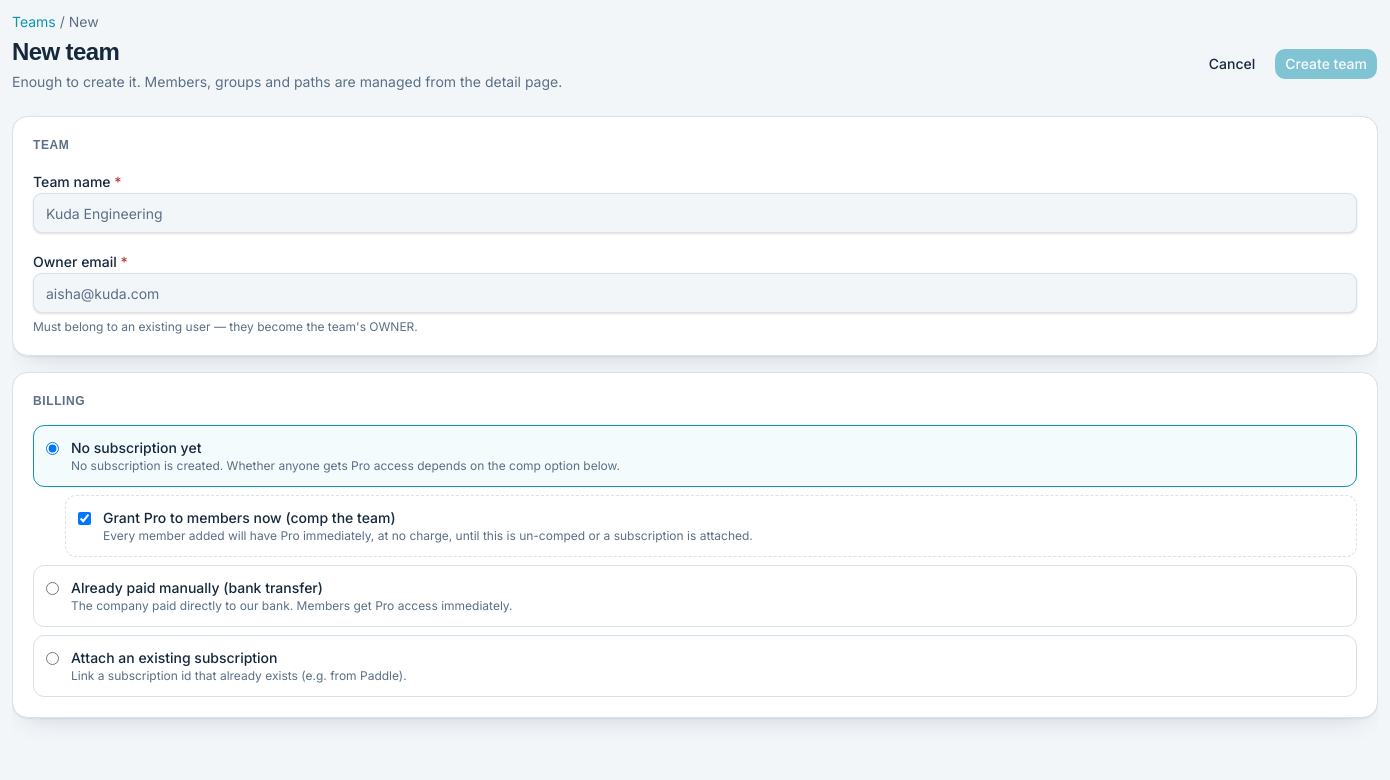
it: NewTeamClient › comp checkbox on the "no subscription yet" branch › is absent on the "attach an existing subscription" branch
Step 1. Click the radio button labelled "Attach an existing subscription" → x=52, y=658, box 46,652 -> 59,665
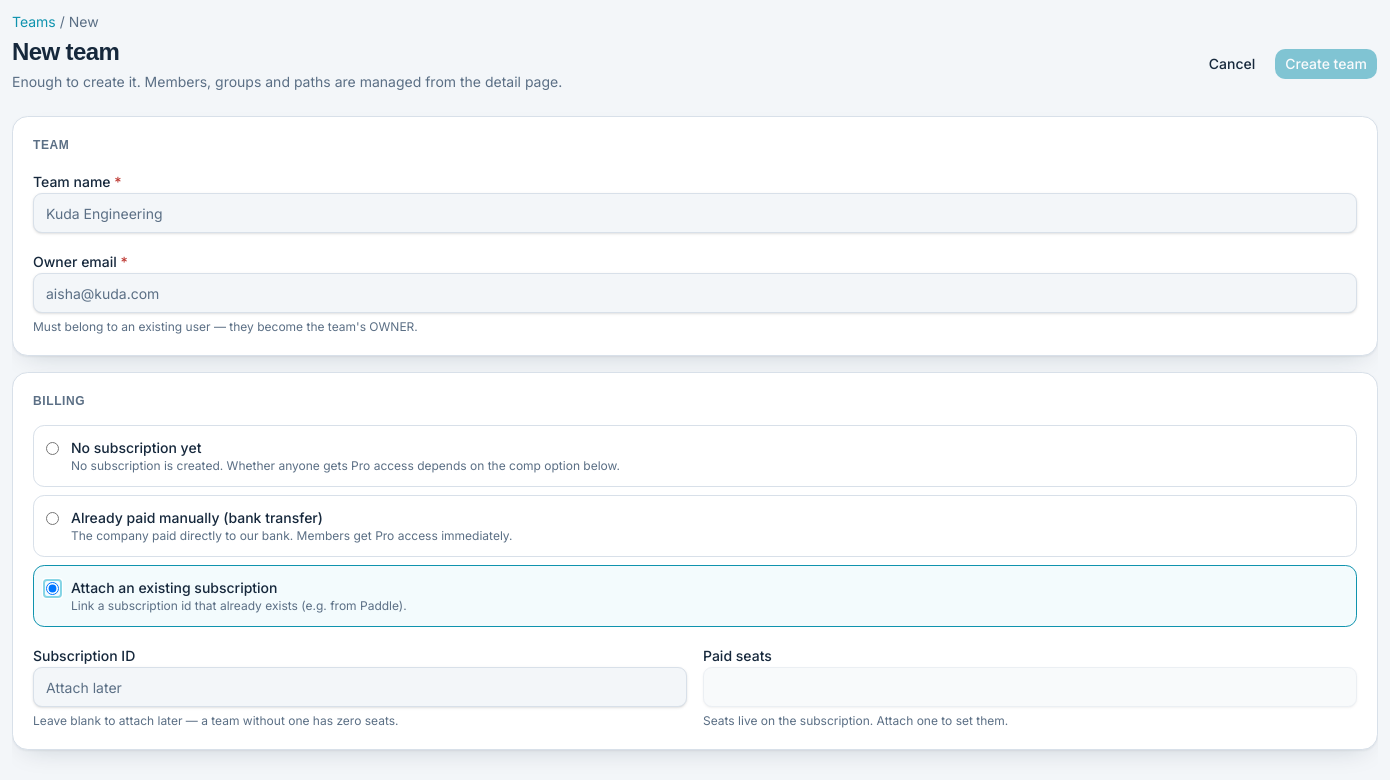
Now the text "Grant Pro" is gone
